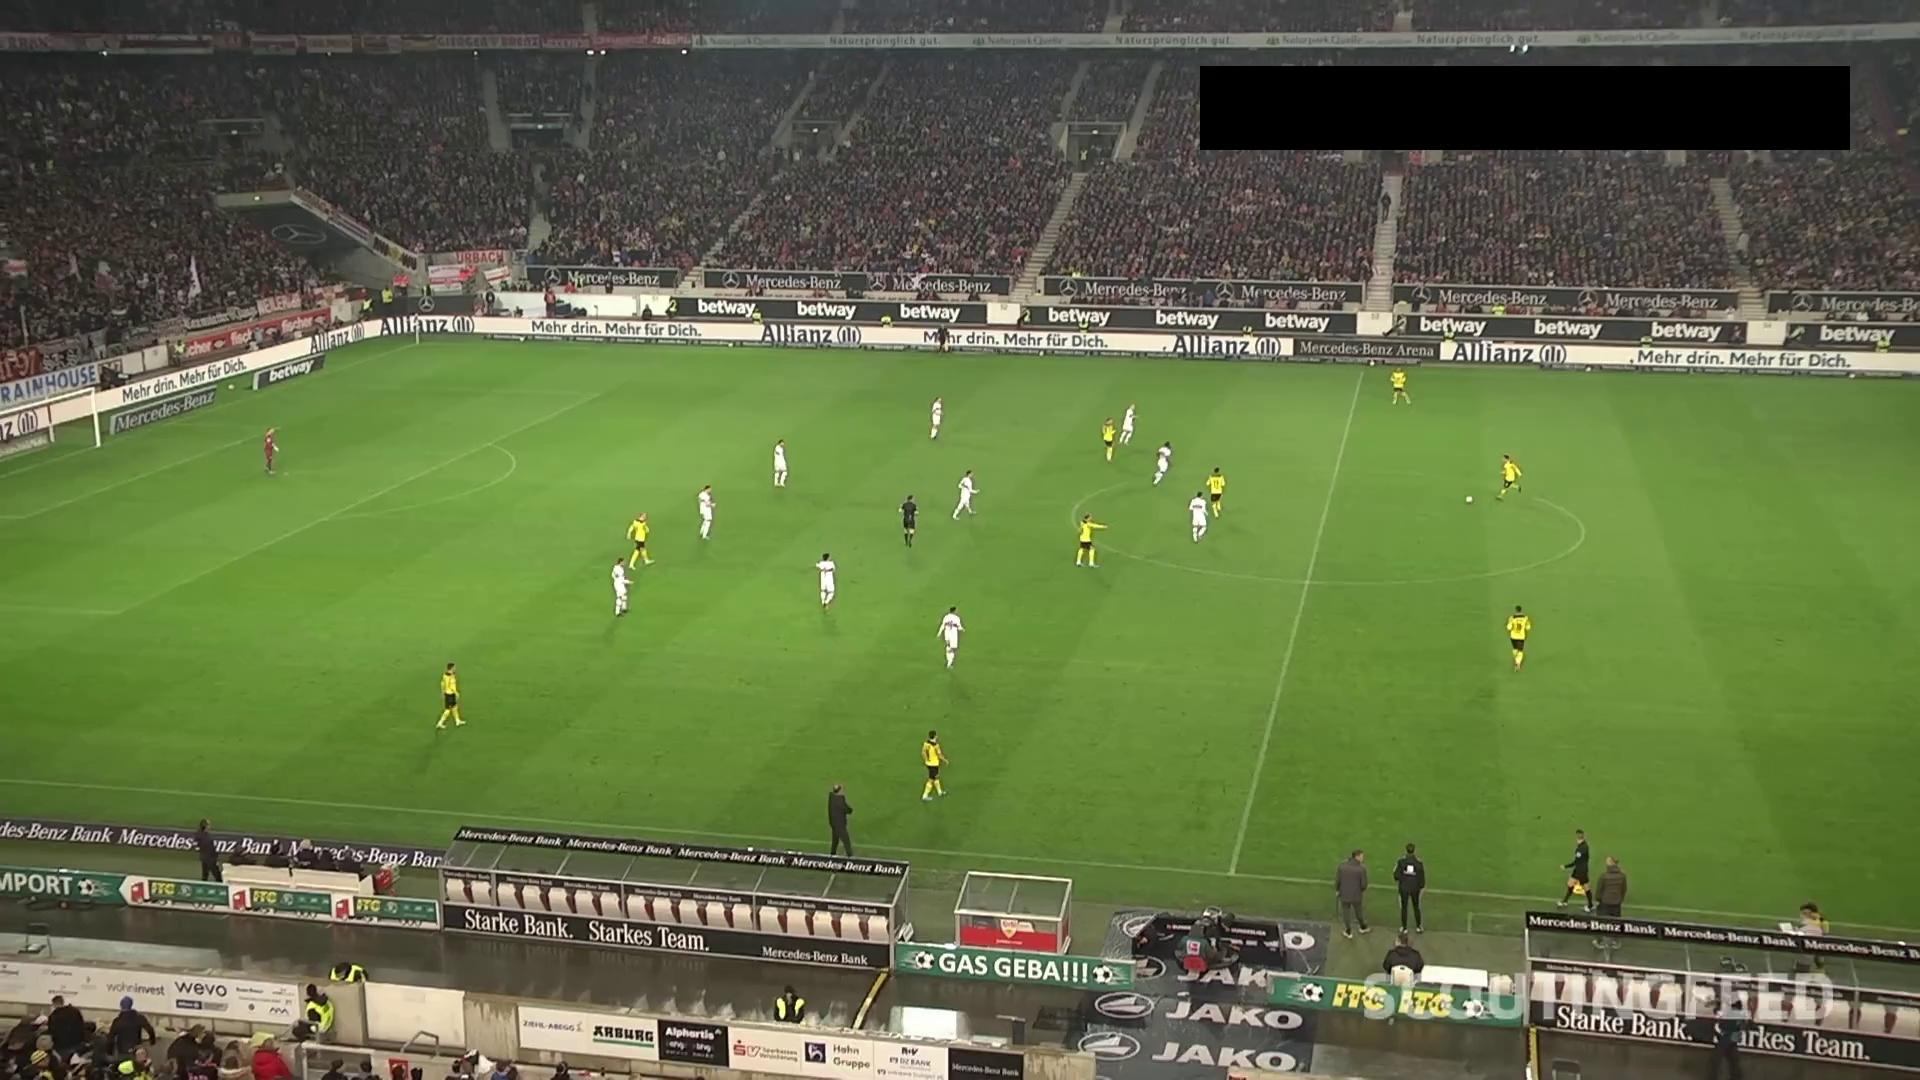Location-of-ball: (1461, 491, 1484, 517)
